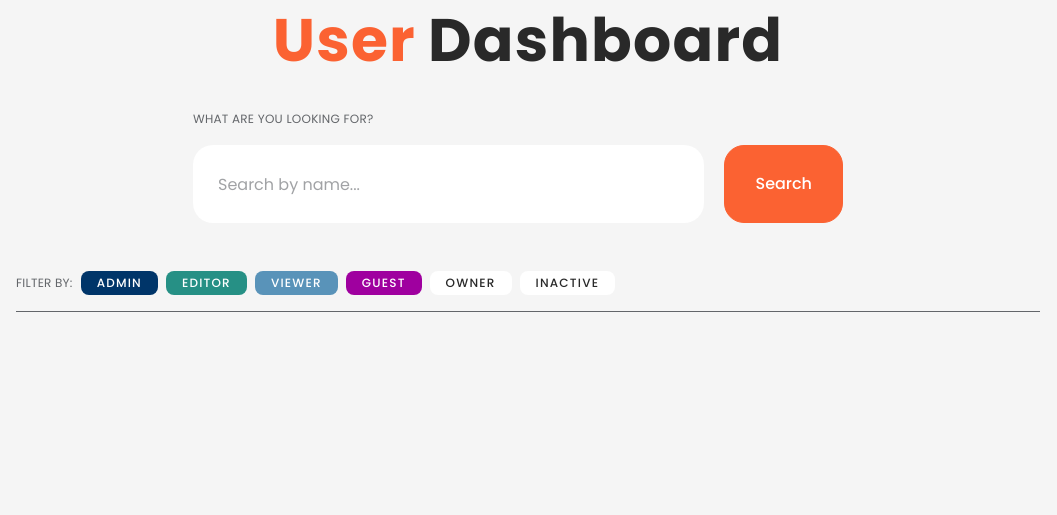
Test: Dashboard › filters by search query
Type "George" into the field with test id "search-input" at (449, 184), box [193, 145, 705, 223]
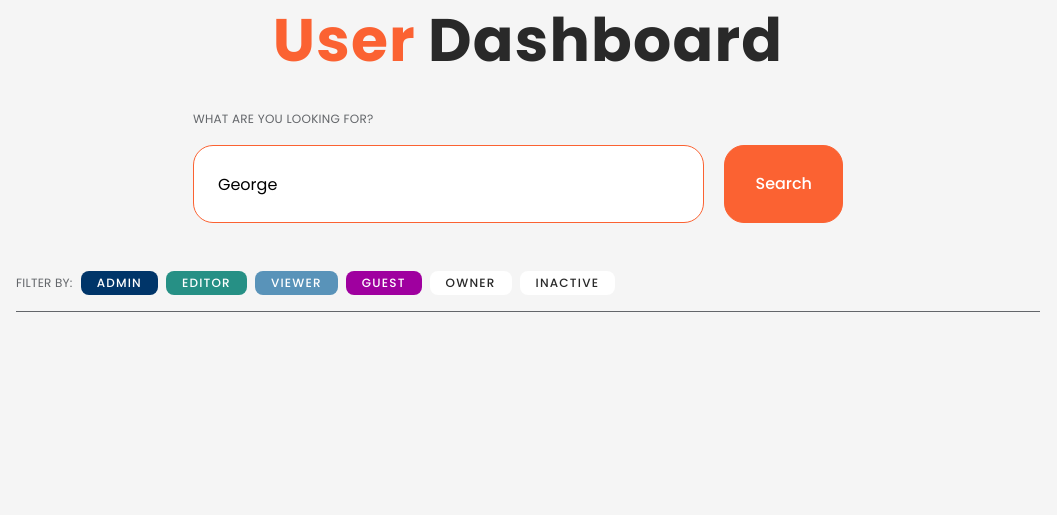
Click the button with test id "search-button" at (785, 184), box [725, 145, 844, 223]
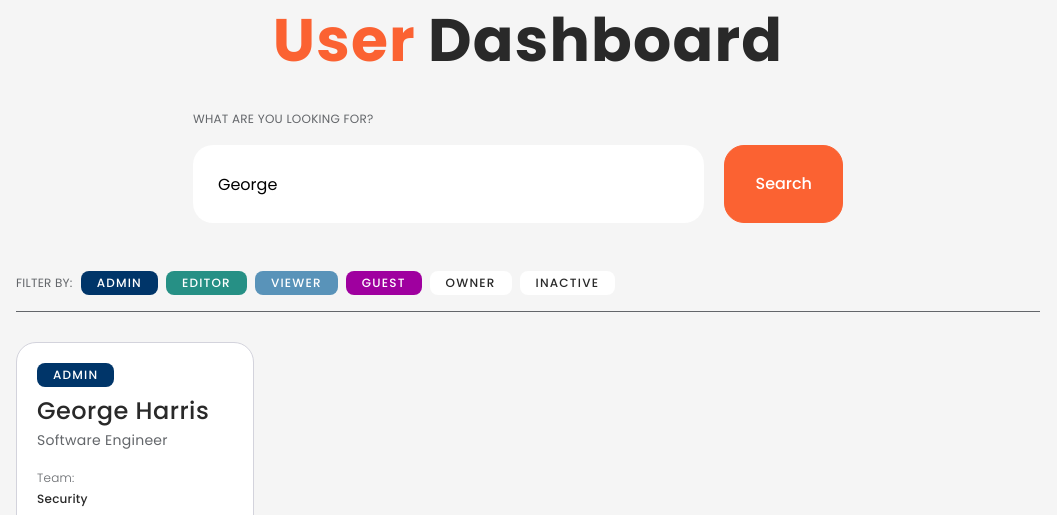
expect the heading "George Harris" is shown: met, box [37, 395, 233, 427]
